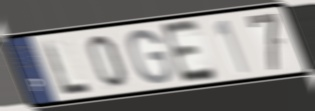0: (86, 33, 132, 91)
1: (215, 18, 251, 75)
7: (244, 11, 280, 72)
E: (157, 17, 220, 87)
G: (126, 27, 174, 86)
L: (39, 38, 94, 98)
